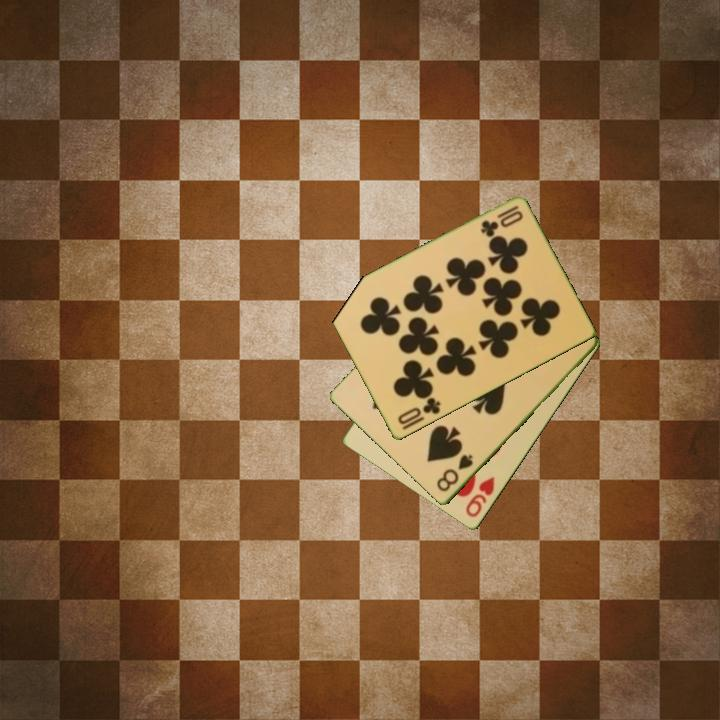10c: (394, 394, 444, 428), (477, 202, 521, 240)
8s: (433, 451, 476, 495)
9h: (462, 474, 498, 521)
